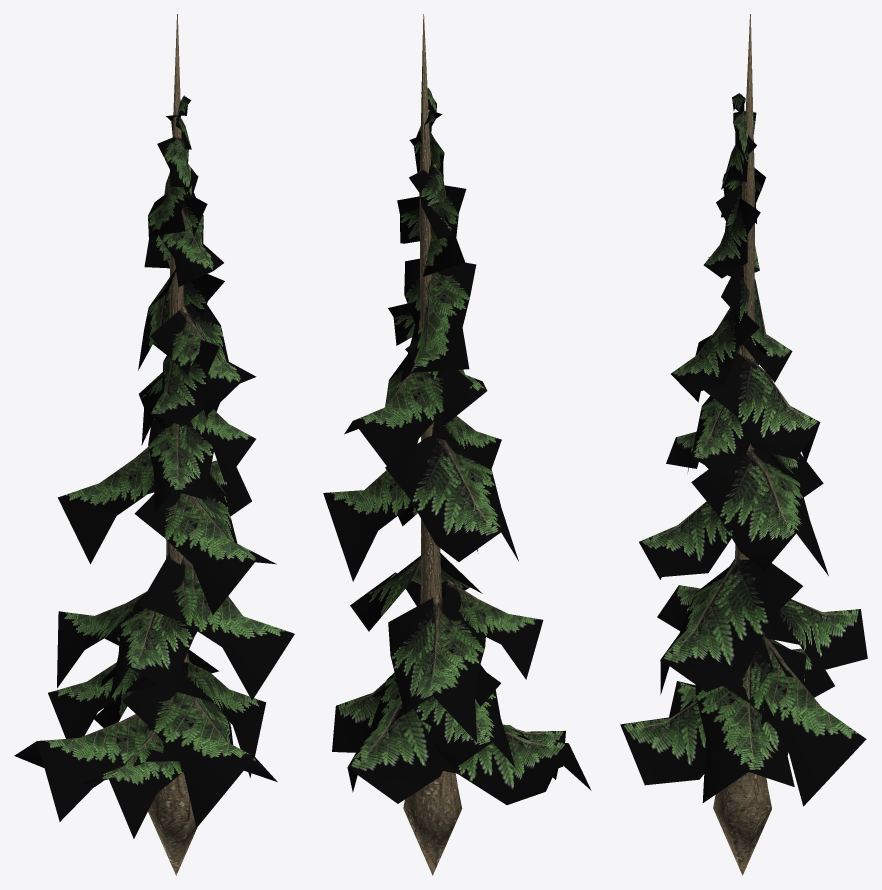
The model's file is forest_PineTree2.fbx.
3 views of the same model, side by side, from view 1: azimuth 30°, elevation 25°; view 2: azimuth 150°, elevation 25°; view 3: azimuth 270°, elevation 25° (orthographic).
Visible parts, largest first — view 1: RHE_SpruceB_Leaves; view 2: RHE_SpruceB_Leaves; view 3: RHE_SpruceB_Leaves.
Boxes of the visible parts, box(x1,y1,x2,y2) form: RHE_SpruceB_Leaves: box(14, 14, 294, 875); RHE_SpruceB_Leaves: box(323, 14, 591, 875); RHE_SpruceB_Leaves: box(620, 14, 867, 875).
Bounding box in the file's own units: 9.8 × 33.84 × 8.79.
